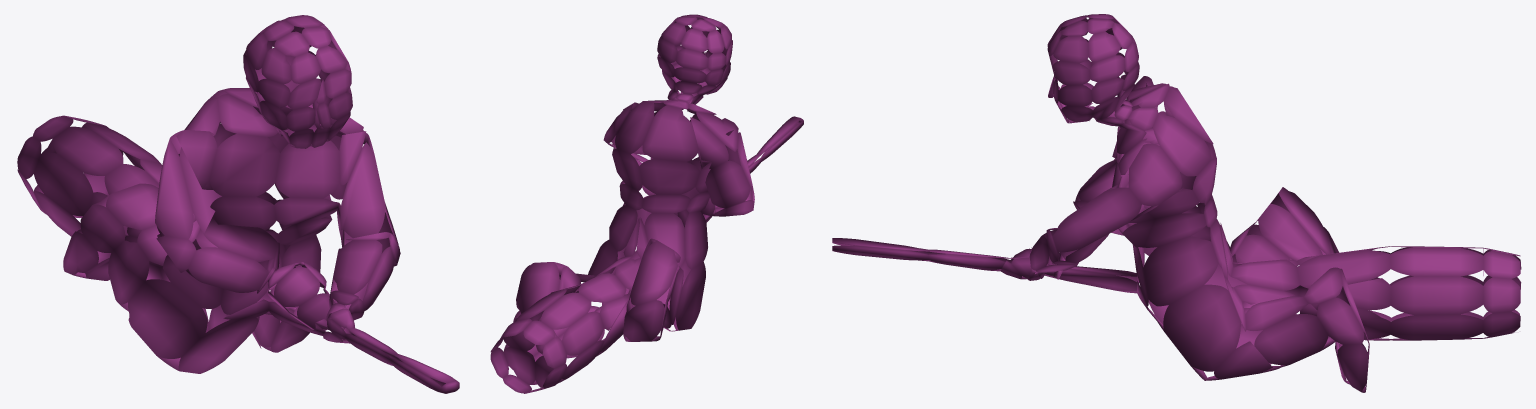
3 views of the same model, side by side, from view 1: azimuth 30°, elevation 25°; view 2: azimuth 150°, elevation 25°; view 3: azimuth 270°, elevation 25° (orthographic). The views are drawn at different scales.
Visible parts, largest first — view 1: T1L3M009_27; view 2: T1L3M009_27; view 3: T1L3M009_27.
Boxes of the visible parts, box(x1,y1,x2,y2) form: T1L3M009_27: box(17, 15, 459, 393); T1L3M009_27: box(490, 14, 803, 393); T1L3M009_27: box(832, 14, 1521, 392).
Size of the model in its own units: 0.5594 by 0.9683 by 1.77.
1 material, 1 textured.
